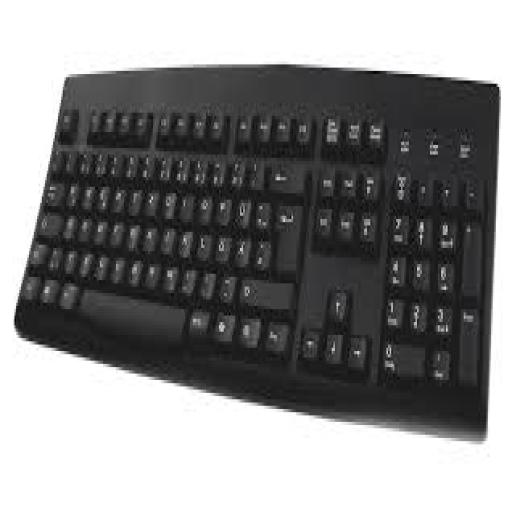keyboard: (14, 64, 499, 435)
